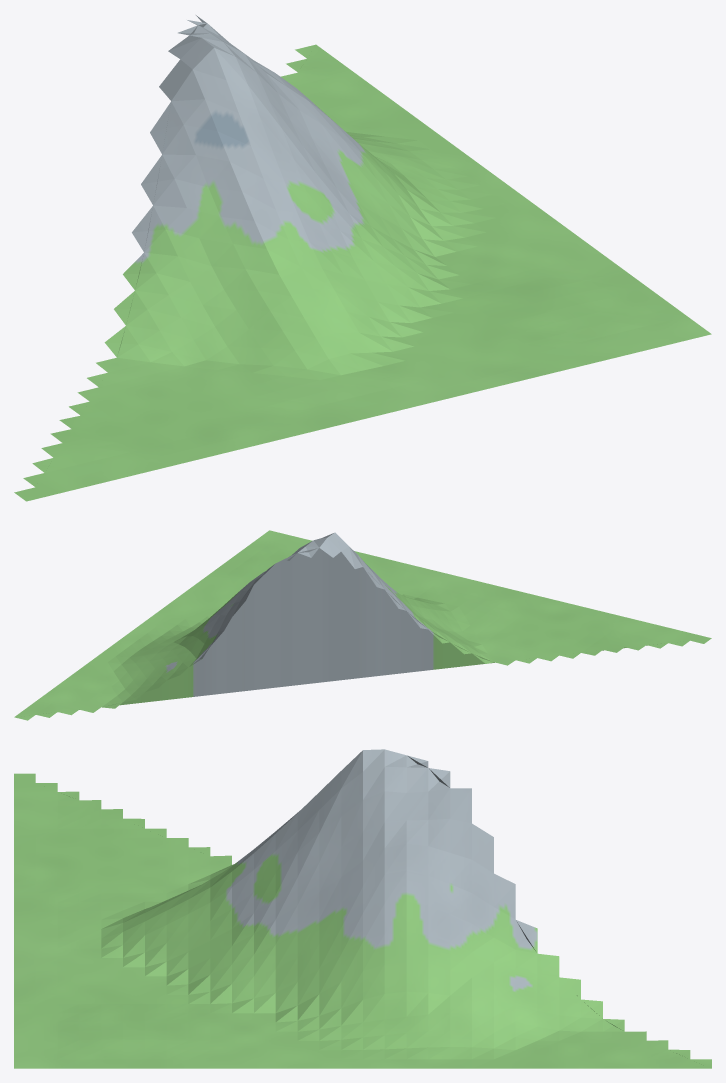
The model's file is Grass_RockyMountains_01_NE.obj.
The picture shows the model from 3 angles, top to bottom: view 1: azimuth 30°, elevation 25°; view 2: azimuth 150°, elevation 25°; view 3: azimuth 270°, elevation 25°; orthographic projection. The views are drawn at different scales.
Size of the model in its own units: 10 by 3.01 by 10.
1 material, 1 textured.
